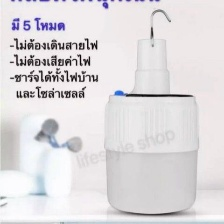light_bulb: (99, 84, 199, 217)
